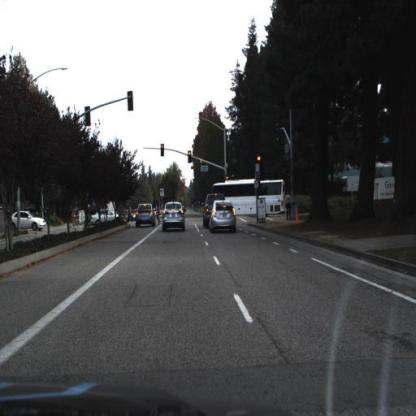biker: (71, 202, 82, 231)
car: (10, 209, 49, 232), (211, 200, 239, 232), (10, 212, 49, 234), (163, 201, 185, 232), (90, 208, 121, 227), (91, 210, 122, 228), (136, 205, 157, 228), (128, 207, 137, 223)
pedestrian: (285, 193, 293, 223), (285, 192, 292, 221), (157, 201, 162, 227)
trafficLight-Red: (257, 155, 263, 171), (257, 154, 263, 169), (188, 150, 193, 165), (189, 151, 193, 163), (225, 177, 230, 185), (225, 175, 230, 181)
trafficLight-RedLeft: (160, 144, 165, 158)
truck: (213, 182, 285, 213)
